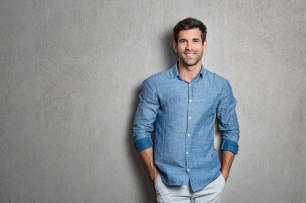male: (167, 15, 210, 70)
